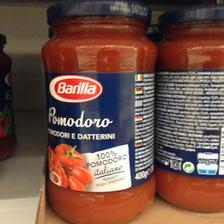Tomatensauce: (38, 0, 158, 224), (154, 3, 222, 213)
